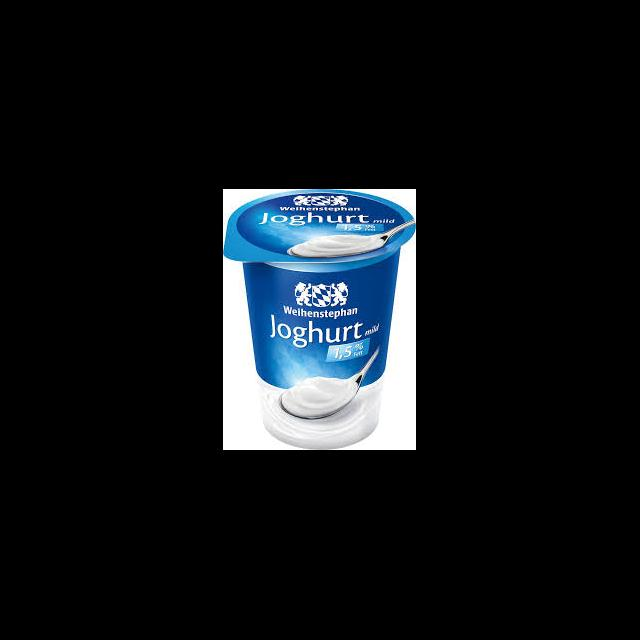plastic: (224, 190, 416, 448)
